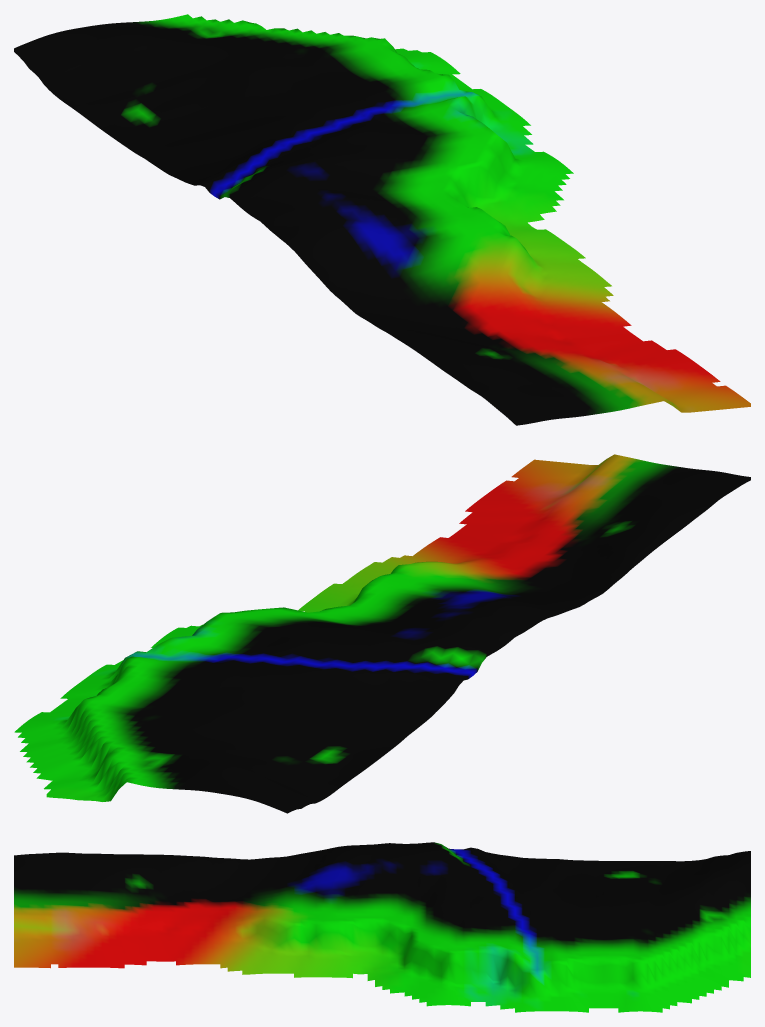
The model's file is coast_400_0_400.glb.
3 views of the same model, one above another, from view 1: azimuth 30°, elevation 25°; view 2: azimuth 150°, elevation 25°; view 3: azimuth 270°, elevation 25° (orthographic). The views are drawn at different scales.
Visible parts, largest first — view 1: terrain; view 2: terrain; view 3: terrain.
Part boxes in pixels (bbox=[...]): terrain: bbox=[14, 14, 750, 425]; terrain: bbox=[14, 454, 750, 813]; terrain: bbox=[14, 842, 750, 1012].
Bounding box in the file's own units: 164 × 29.99 × 400.
